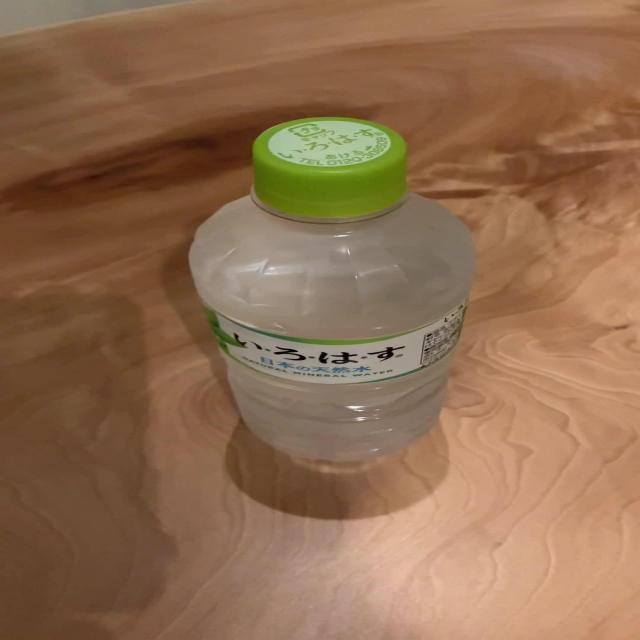chai: (189, 118, 474, 462)
